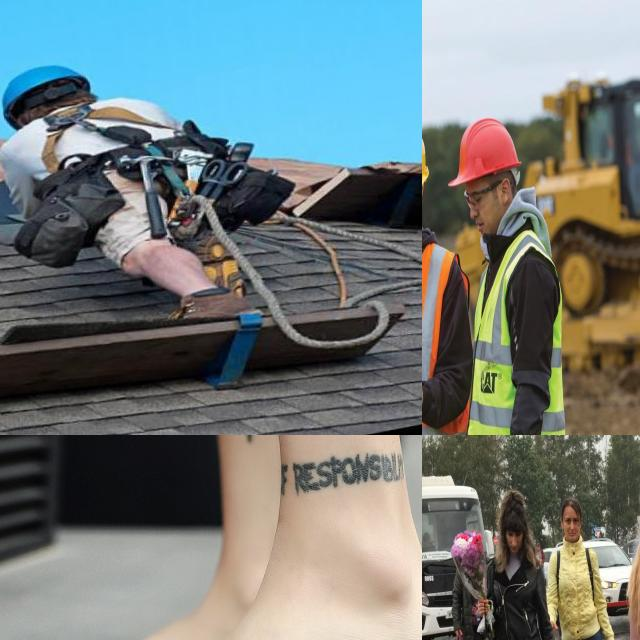Harness: (35, 104, 189, 244)
Sandals: (27, 556, 422, 640)
face_nomask: (458, 170, 500, 244)
glasses: (461, 184, 493, 213)
head_helmet: (450, 117, 524, 185)
person: (459, 117, 560, 435), (422, 120, 475, 435)
vest: (465, 236, 571, 435), (422, 237, 471, 435)
